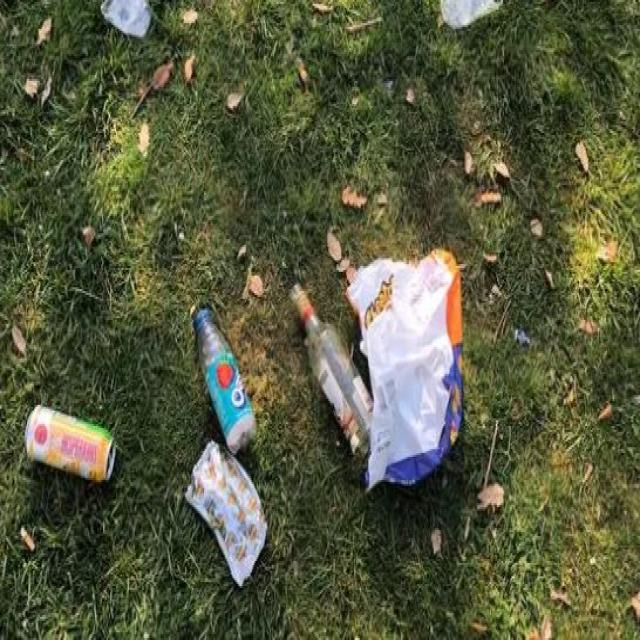metal: (14, 375, 128, 499)
paper: (178, 438, 272, 588), (88, 3, 173, 43)
plastic: (348, 250, 482, 500), (187, 290, 269, 460)
